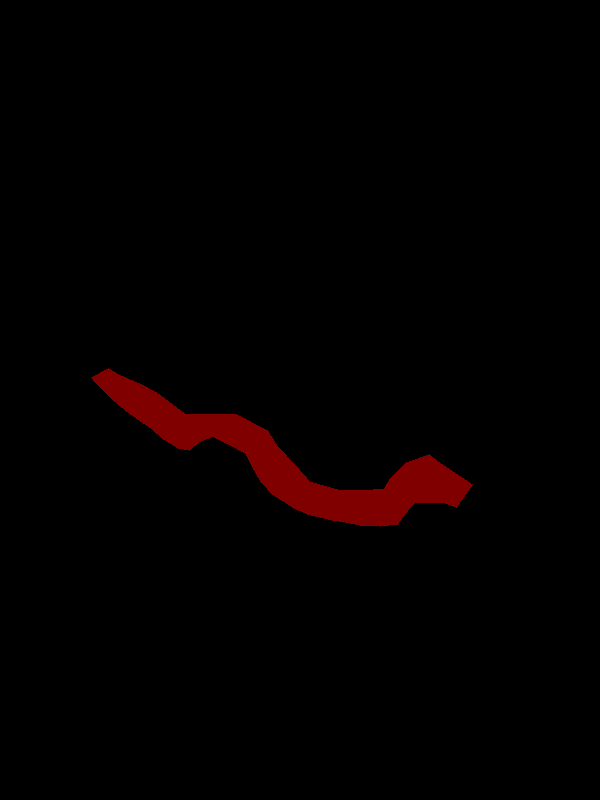fire: (91, 368, 472, 526)
